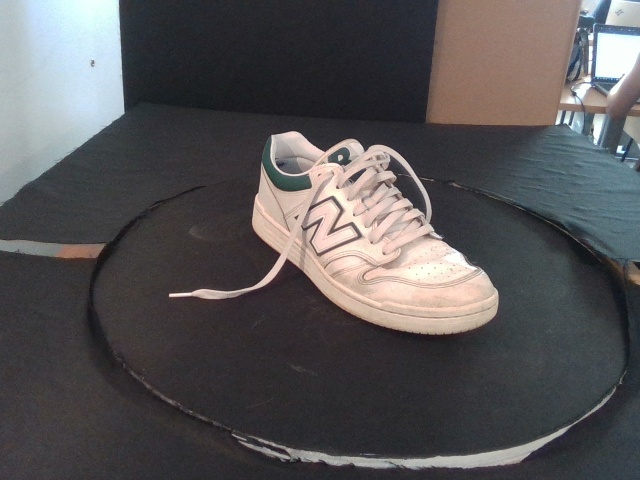shoe: (251, 129, 500, 335)
